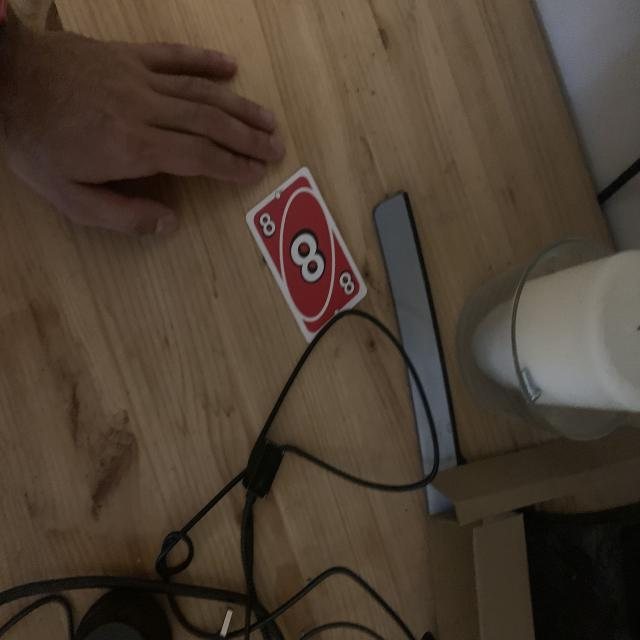lred-8: (257, 208, 279, 241)
